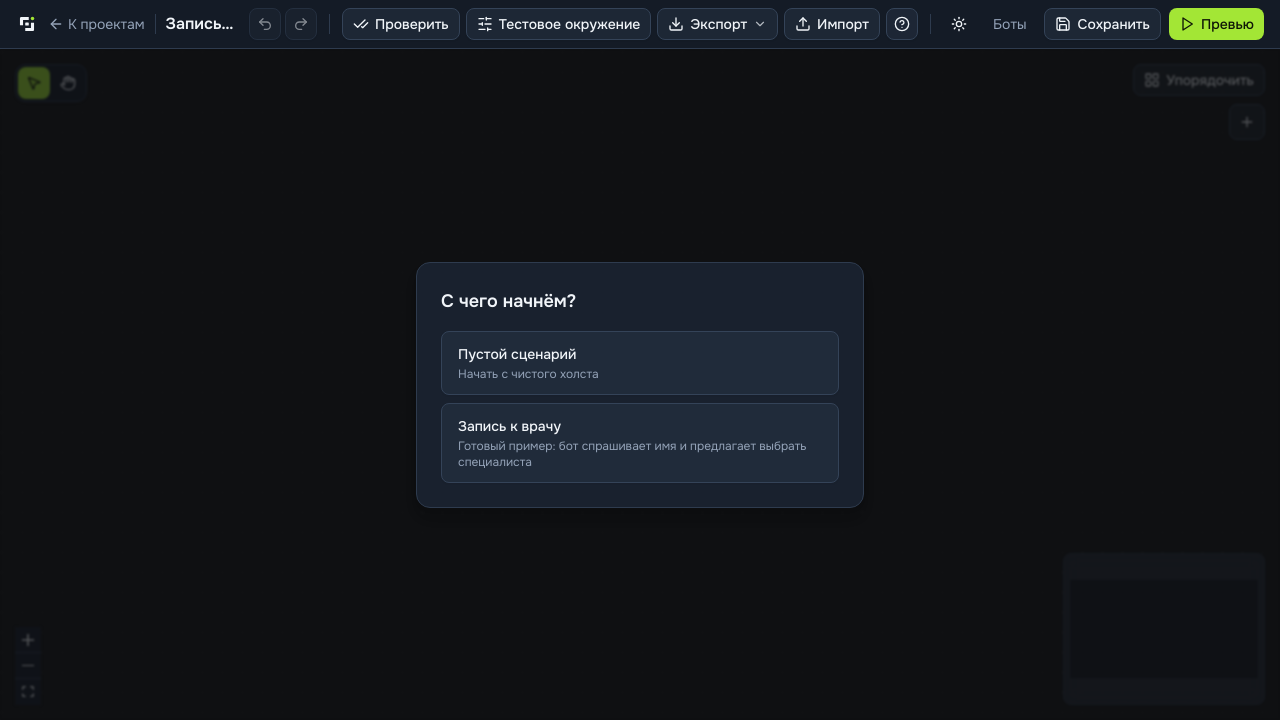
Scenario: EditorPage › добавление блоков › карточка первого шага принимает клики: pointer-events-auto, nodrag, nopan; клик открывает «Что дальше?»
Click the button "Пустой сценарий Начать с чистого холста".
click(517, 354)  # box 441,330 -> 839,394
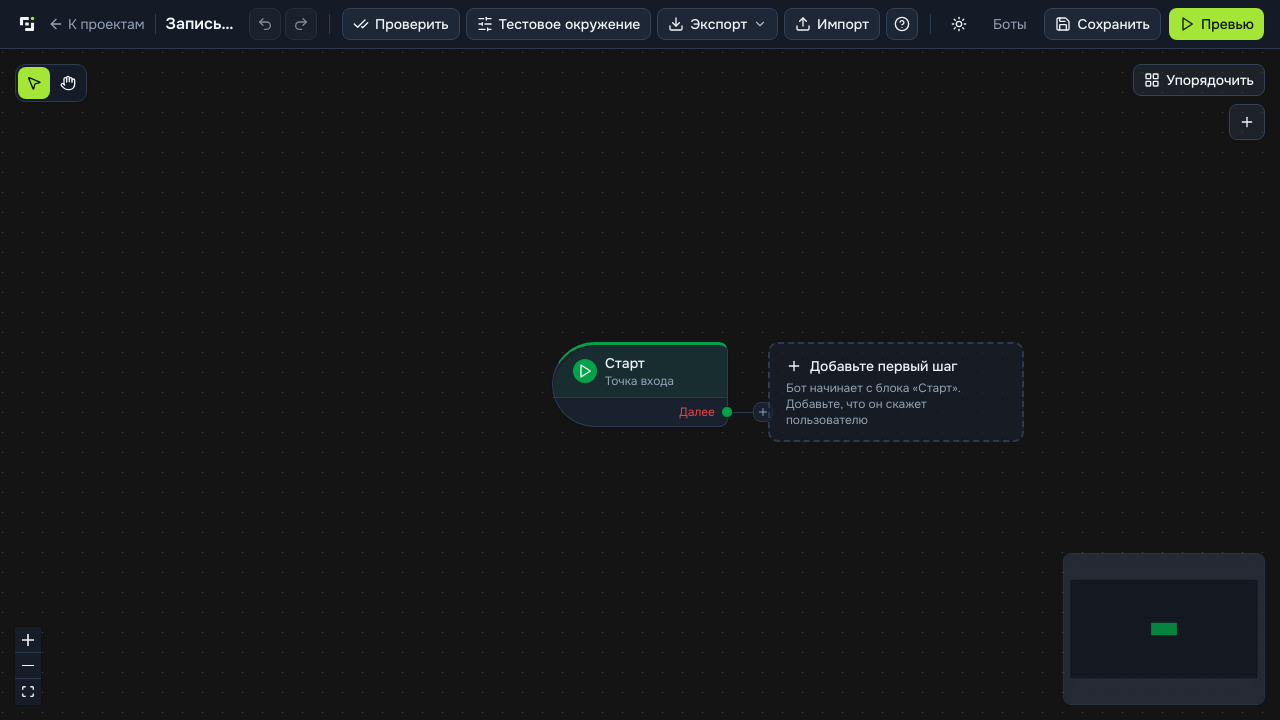
Click the button "Добавьте первый шаг".
click(896, 392)  # box 768,342 -> 1024,442
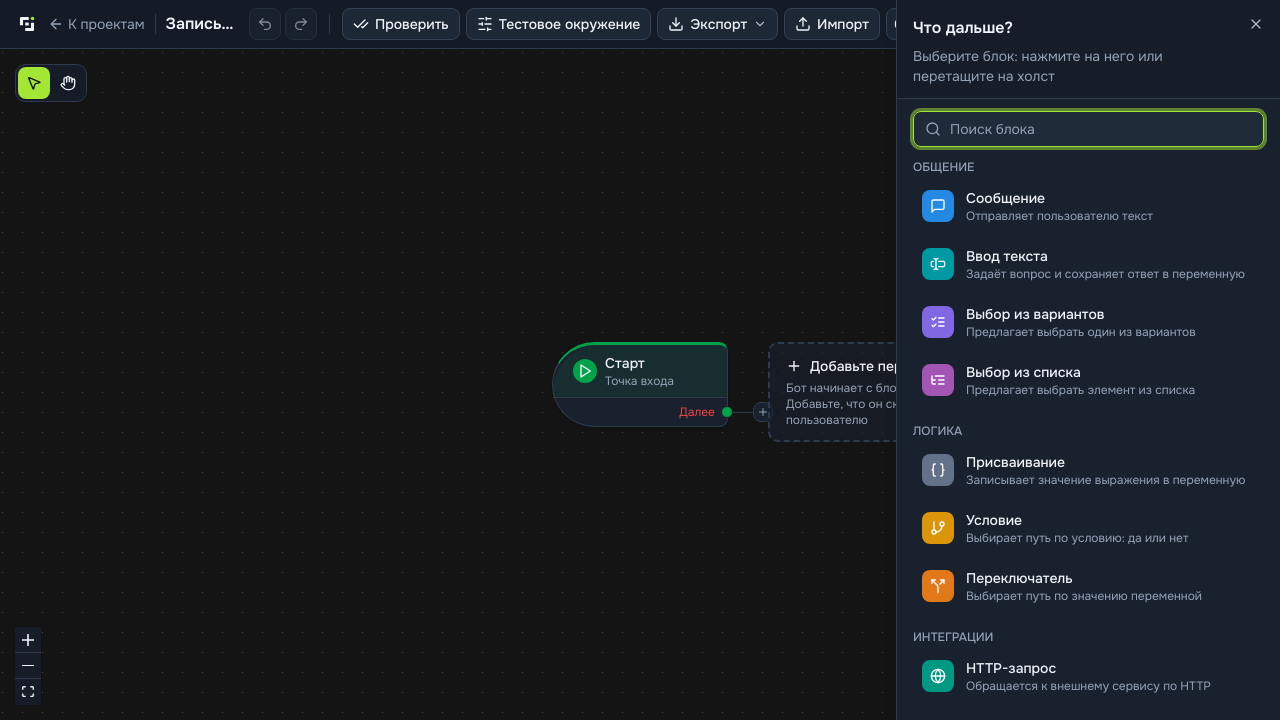
Expected: the heading "Что дальше?" is shown, 913,17 -> 1013,38
